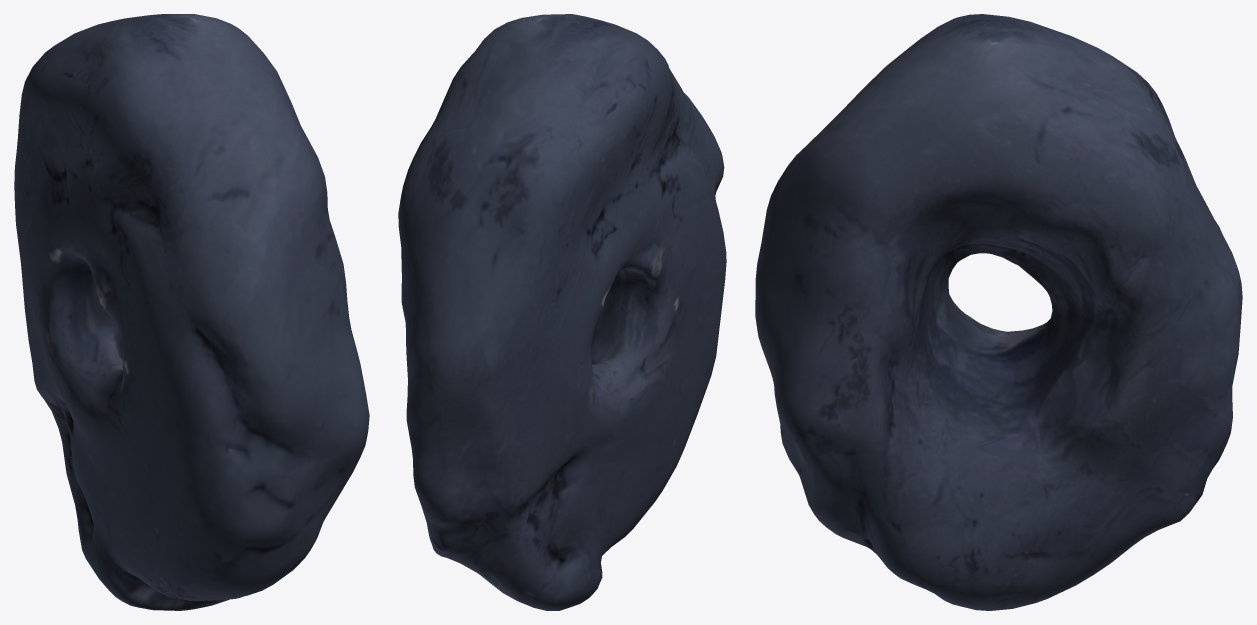
Rendered from Felix_Wheel.glb.
The picture shows the model from 3 angles, left to right: view 1: azimuth 30°, elevation 25°; view 2: azimuth 150°, elevation 25°; view 3: azimuth 270°, elevation 25°; orthographic projection. The views are drawn at different scales.
Parts seen in each view (by area): view 1: Felix_Wheel; view 2: Felix_Wheel; view 3: Felix_Wheel.
Part boxes in pixels (x1,y1,x2,y2): Felix_Wheel: [14, 14, 369, 610]; Felix_Wheel: [398, 14, 726, 610]; Felix_Wheel: [755, 14, 1242, 610].
Size of the model in its own units: 0.328 by 0.9525 by 0.7355.
1 material, 1 textured.
